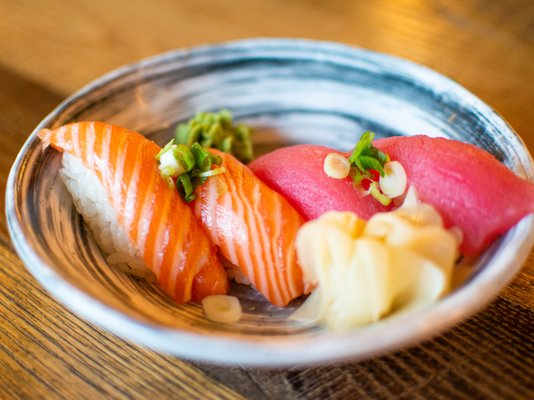curry: (175, 109, 254, 163)
sushi: (10, 46, 534, 387)
